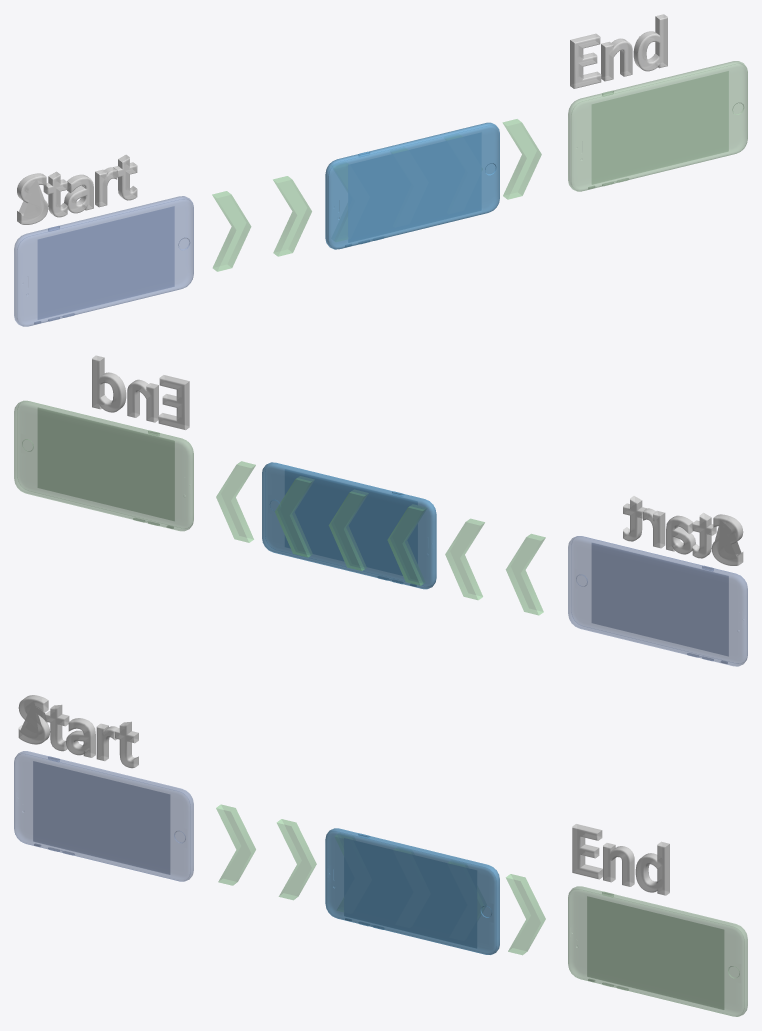
File: ani1.fbx
3 renders of one model, top to bottom at view 1: azimuth 30°, elevation 25°; view 2: azimuth 150°, elevation 25°; view 3: azimuth 330°, elevation 25°, orthographic.
Visible parts, largest first — view 1: pasted__polySurface38 (×3), pasted__pPlane1 (×3), pasted__polySurface50 (×3), typeMesh1, typeMesh2, pasted__pasted__pCube5, pasted__pasted__pCube10, pasted__pasted__pCube6; view 2: pasted__polySurface50 (×3), pasted__polySurface27 (×3), pasted__polySurface38 (×3), typeMesh1, typeMesh2, pasted__pasted__pCube10, pasted__pasted__pCube6, pasted__pasted__pCube5, pasted__pasted__pCube7, pasted__pasted__pCube8, pasted__pasted__pCube9; view 3: pasted__polySurface38 (×3), pasted__pPlane1 (×3), pasted__polySurface50 (×3), typeMesh1, typeMesh2, pasted__pasted__pCube5, pasted__pasted__pCube10, pasted__pasted__pCube6.
Boxes of the visible parts, bbox=[...] form: pasted__polySurface38 (×3): bbox=[17, 64, 747, 326]; pasted__pPlane1 (×3): bbox=[38, 71, 728, 319]; pasted__polySurface50 (×3): bbox=[14, 61, 747, 326]; typeMesh1: bbox=[17, 154, 137, 224]; typeMesh2: bbox=[570, 14, 667, 88]; pasted__pasted__pCube5: bbox=[212, 191, 251, 271]; pasted__pasted__pCube10: bbox=[502, 119, 541, 199]; pasted__pasted__pCube6: bbox=[273, 176, 311, 256]; pasted__polySurface50 (×3): bbox=[14, 400, 747, 666]; pasted__polySurface27 (×3): bbox=[37, 408, 728, 655]; pasted__polySurface38 (×3): bbox=[17, 401, 747, 663]; typeMesh1: bbox=[623, 496, 743, 565]; typeMesh2: bbox=[92, 355, 189, 430]; pasted__pasted__pCube10: bbox=[216, 461, 255, 542]; pasted__pasted__pCube6: bbox=[445, 518, 484, 599]; pasted__pasted__pCube5: bbox=[506, 534, 545, 615]; pasted__pasted__pCube7: bbox=[387, 505, 426, 585]; pasted__pasted__pCube8: bbox=[329, 490, 368, 570]; pasted__pasted__pCube9: bbox=[275, 476, 313, 557]; pasted__polySurface38 (×3): bbox=[14, 754, 744, 1016]; pasted__pPlane1 (×3): bbox=[33, 761, 723, 1009]; pasted__polySurface50 (×3): bbox=[14, 751, 747, 1016]; typeMesh1: bbox=[18, 695, 138, 768]; typeMesh2: bbox=[572, 824, 669, 895]; pasted__pasted__pCube5: bbox=[216, 804, 255, 885]; pasted__pasted__pCube10: bbox=[506, 874, 545, 955]; pasted__pasted__pCube6: bbox=[277, 819, 316, 900].
Size of the model in its own units: 9.41 by 1.89 by 0.1698.
